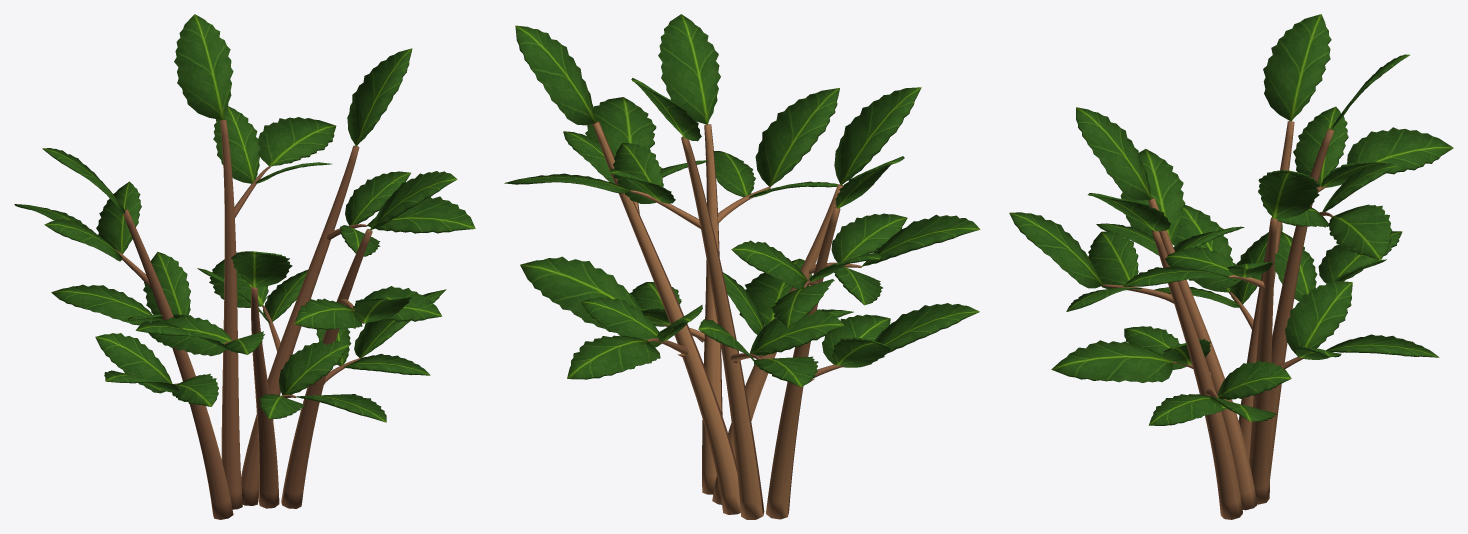
Rendered from NP_Blackberry_Young.fbx.
3 renders of one model, left to right at view 1: azimuth 30°, elevation 25°; view 2: azimuth 150°, elevation 25°; view 3: azimuth 270°, elevation 25°, orthographic. The views are drawn at different scales.
Parts seen in each view (by area): view 1: NP_Blackberry_Young; view 2: NP_Blackberry_Young; view 3: NP_Blackberry_Young.
Part boxes in pixels (x1=…): NP_Blackberry_Young: x1=14, y1=14, x2=475, y2=519; NP_Blackberry_Young: x1=504, y1=14, x2=980, y2=519; NP_Blackberry_Young: x1=1009, y1=14, x2=1453, y2=519.
Bounding box in the file's own units: 45.77 × 50.39 × 44.64.
